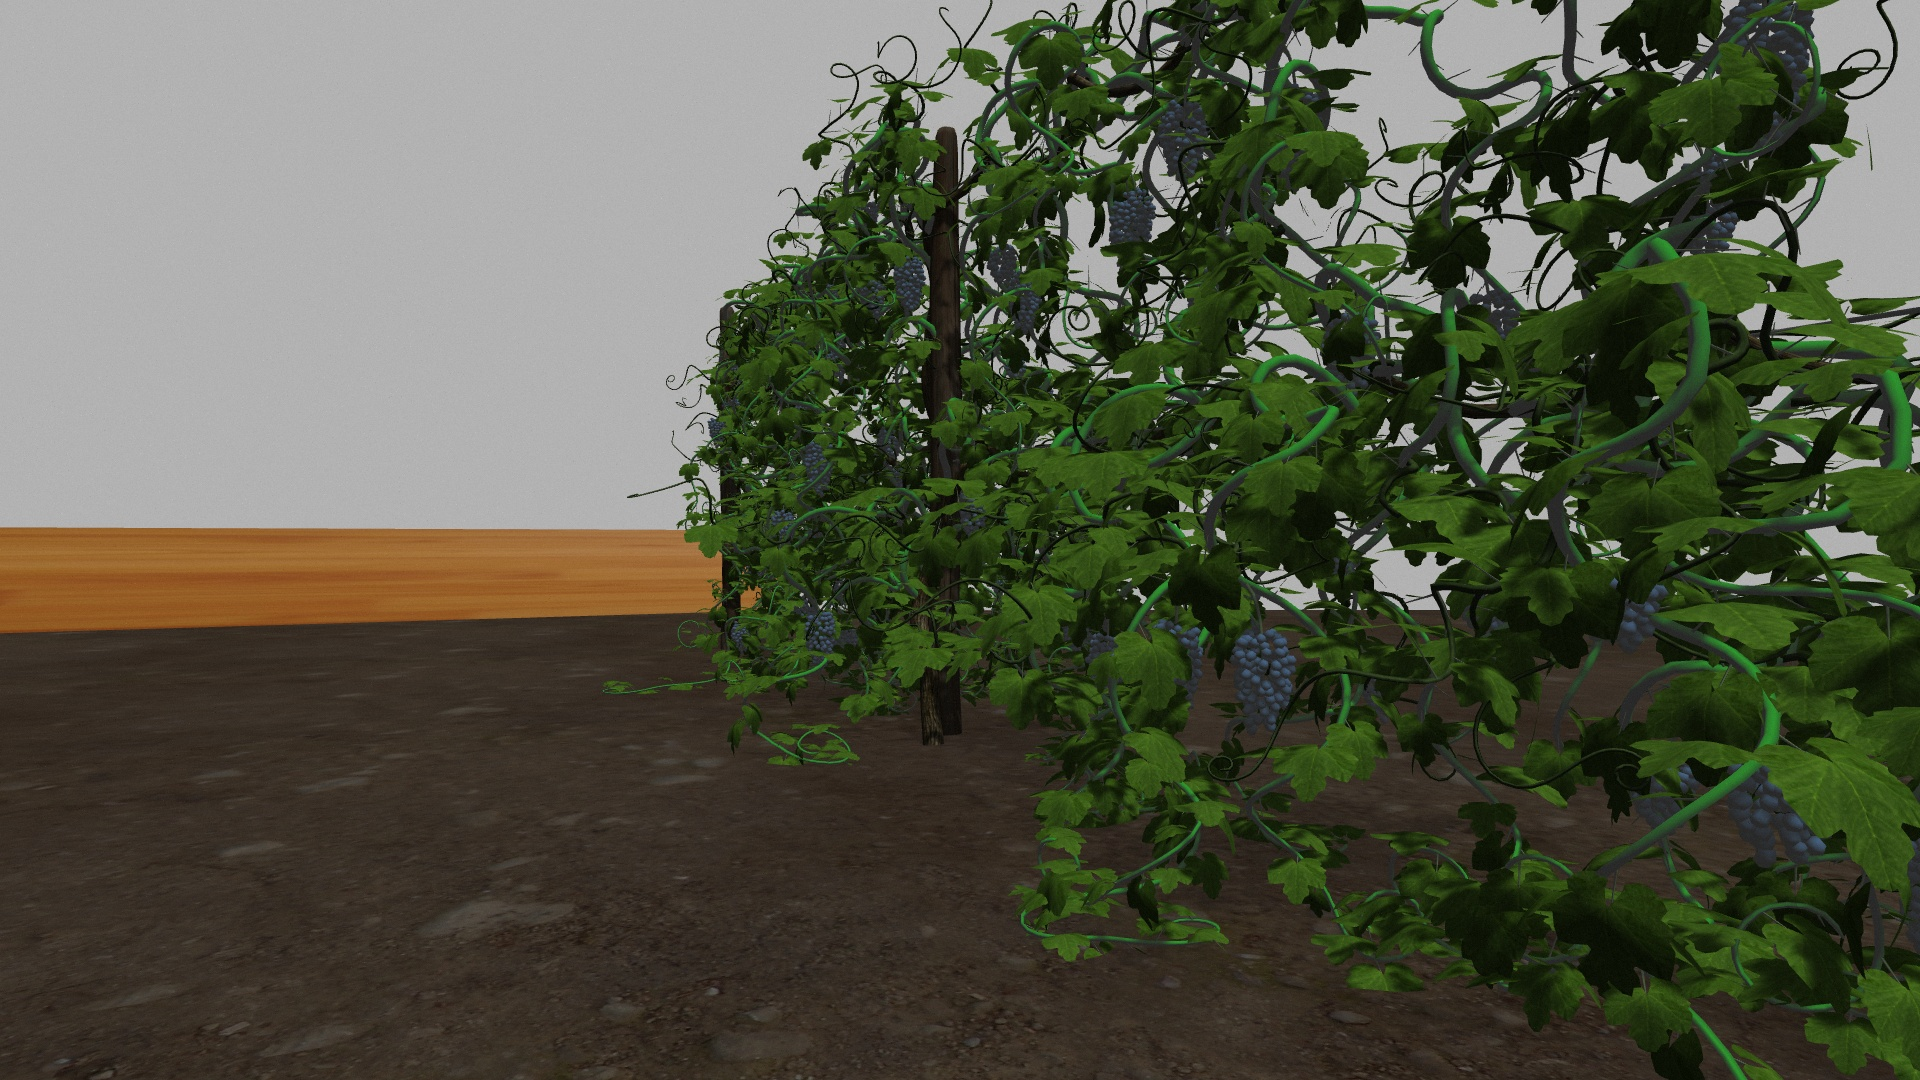grape: (1731, 762, 1829, 868), (1232, 633, 1299, 731), (1156, 100, 1212, 185), (1611, 578, 1668, 659), (1105, 185, 1156, 249), (894, 251, 927, 310), (806, 611, 836, 665), (803, 443, 833, 493), (1014, 285, 1044, 331), (985, 245, 1017, 287), (771, 510, 795, 541), (731, 624, 746, 647), (708, 418, 727, 438)
